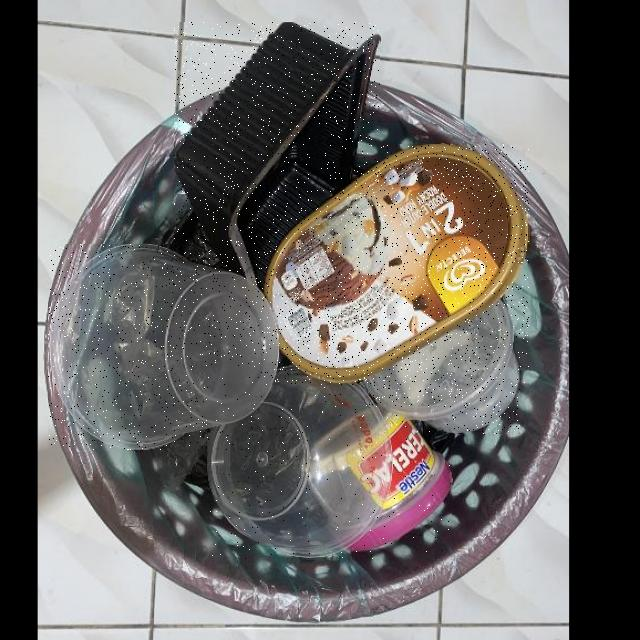plastic: (264, 145, 529, 385), (174, 23, 380, 292), (49, 244, 280, 451), (209, 367, 393, 559), (365, 298, 520, 434), (309, 408, 452, 552)
